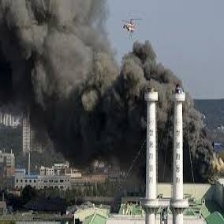smoke: (2, 1, 210, 176)
